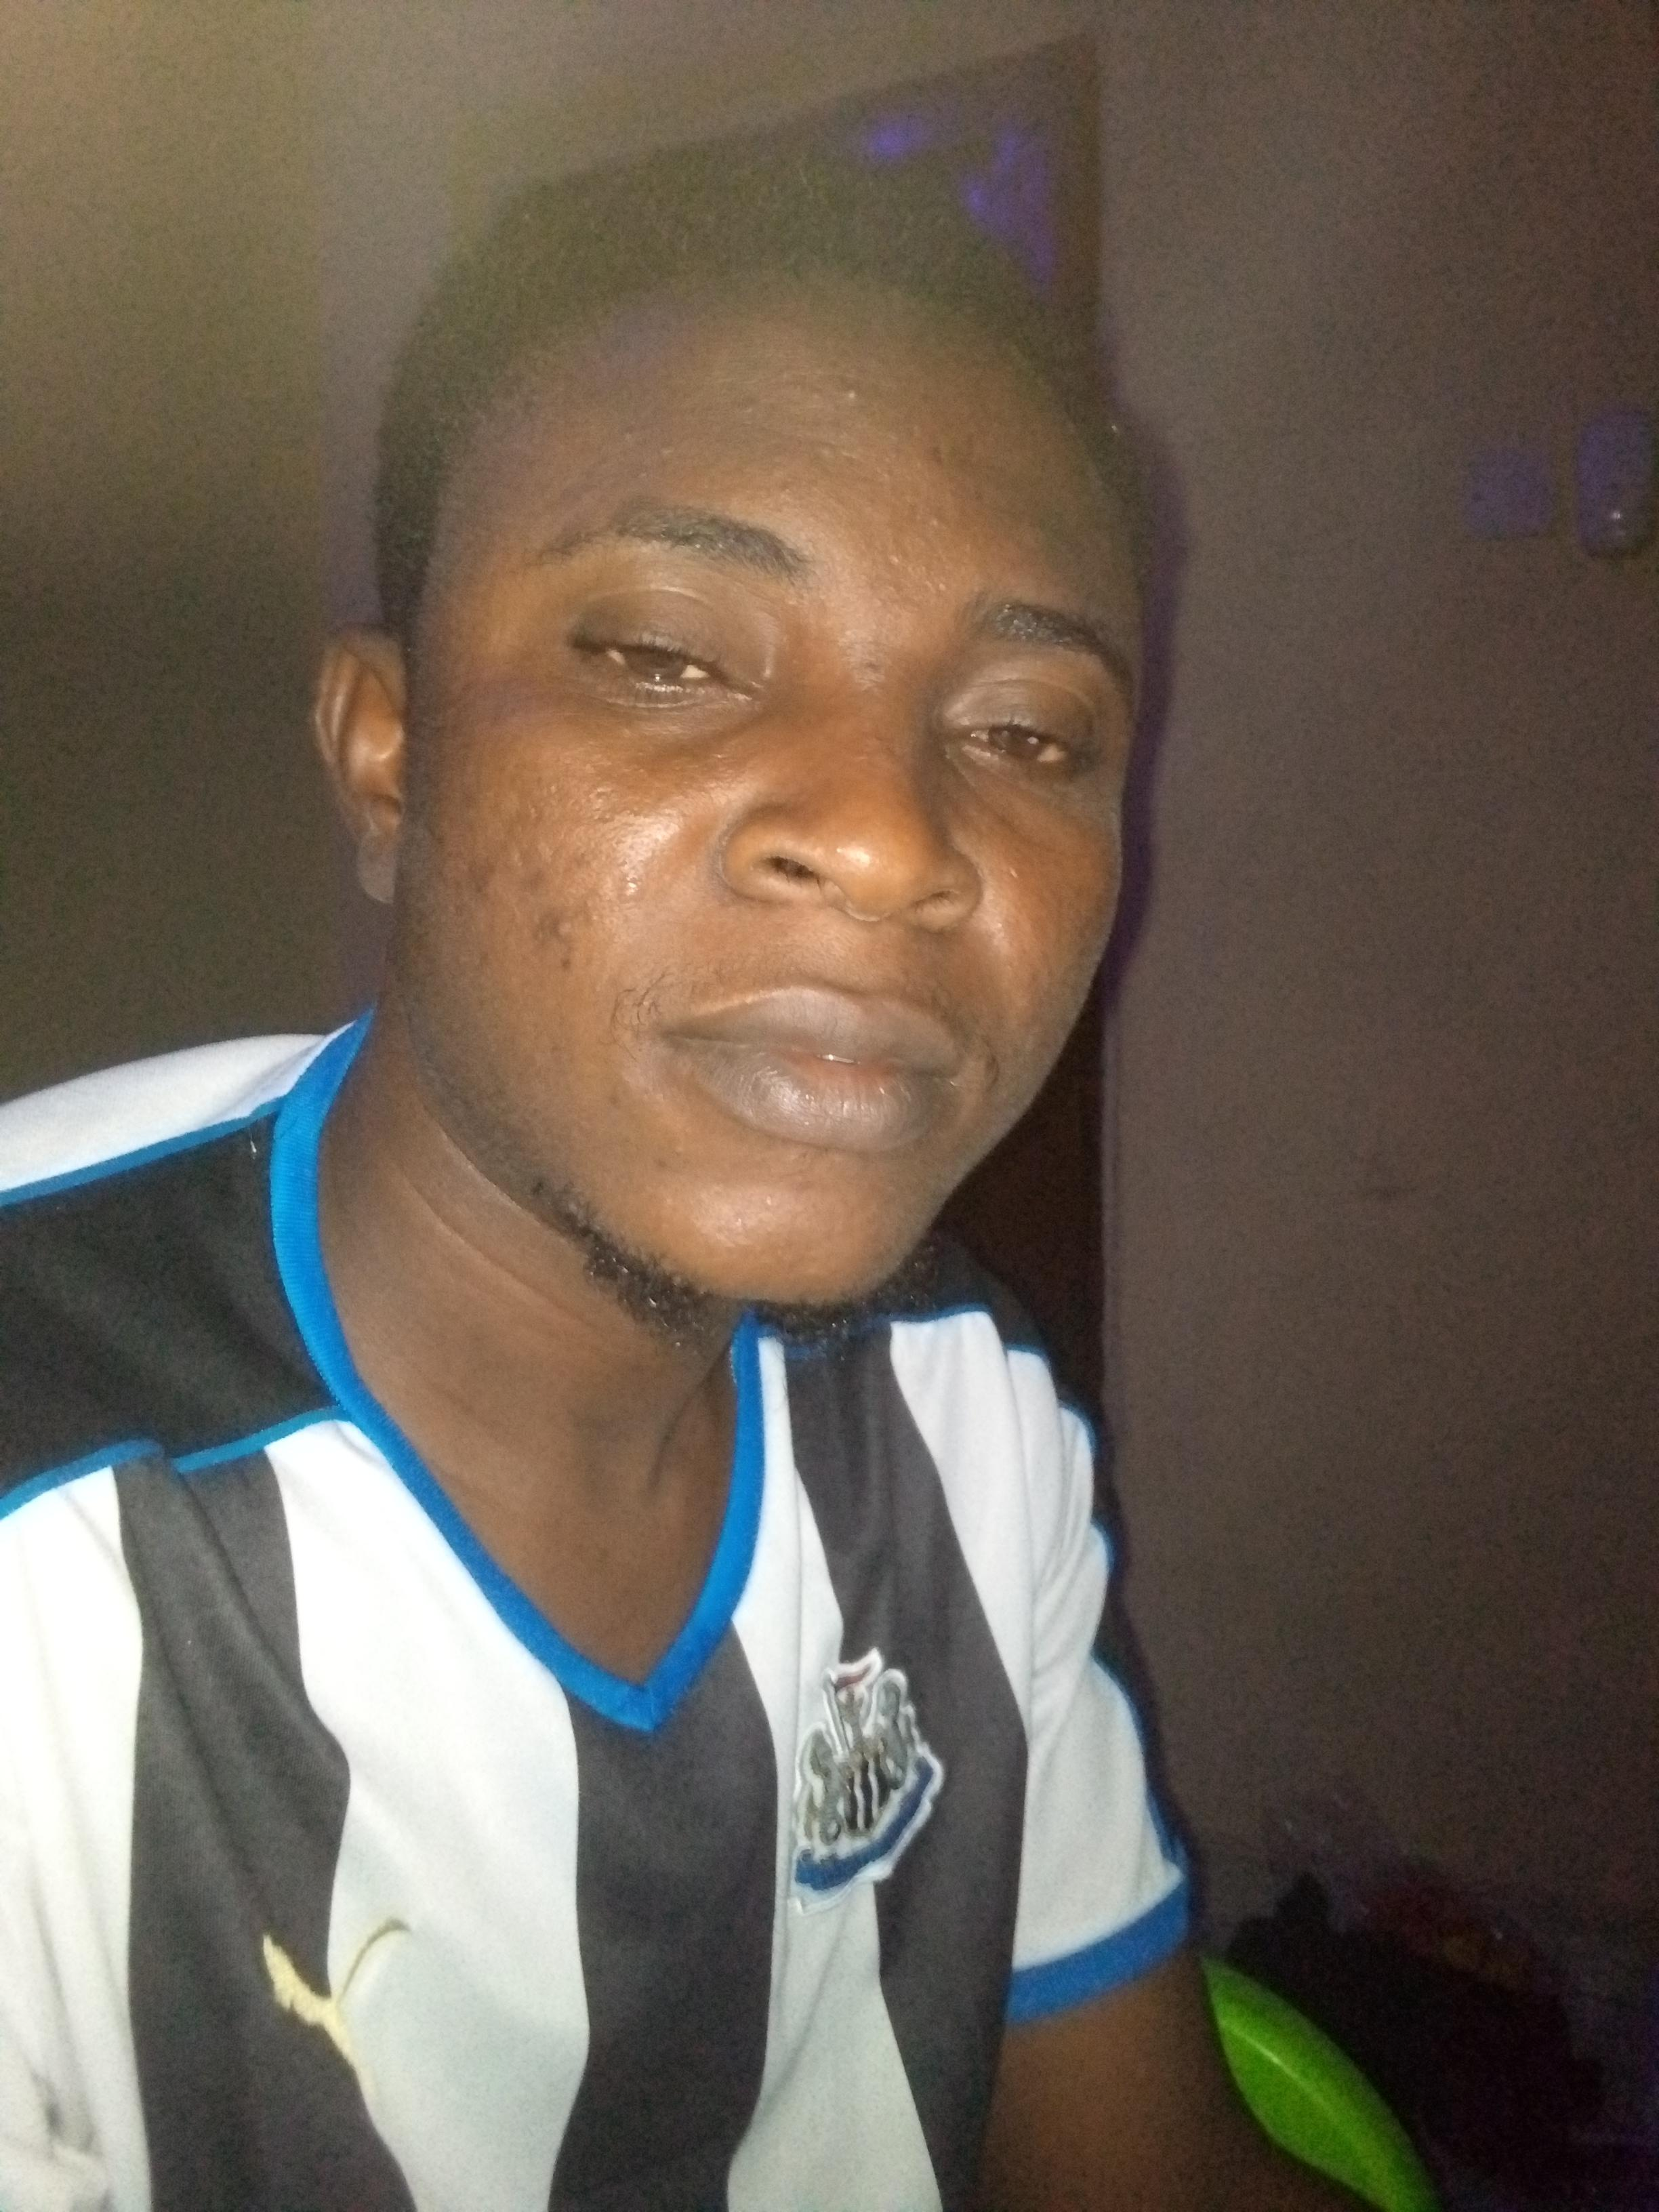Acne: (523, 894, 598, 974), (884, 540, 943, 594), (774, 359, 826, 409), (805, 427, 864, 467), (913, 491, 965, 536), (882, 428, 920, 484), (993, 857, 1035, 900), (850, 655, 894, 693), (749, 1184, 786, 1216), (833, 376, 873, 404), (732, 390, 762, 420), (653, 441, 685, 469), (667, 1141, 694, 1165)
Englarged-Pores: (544, 772, 723, 906), (455, 805, 537, 902), (448, 632, 500, 712)
